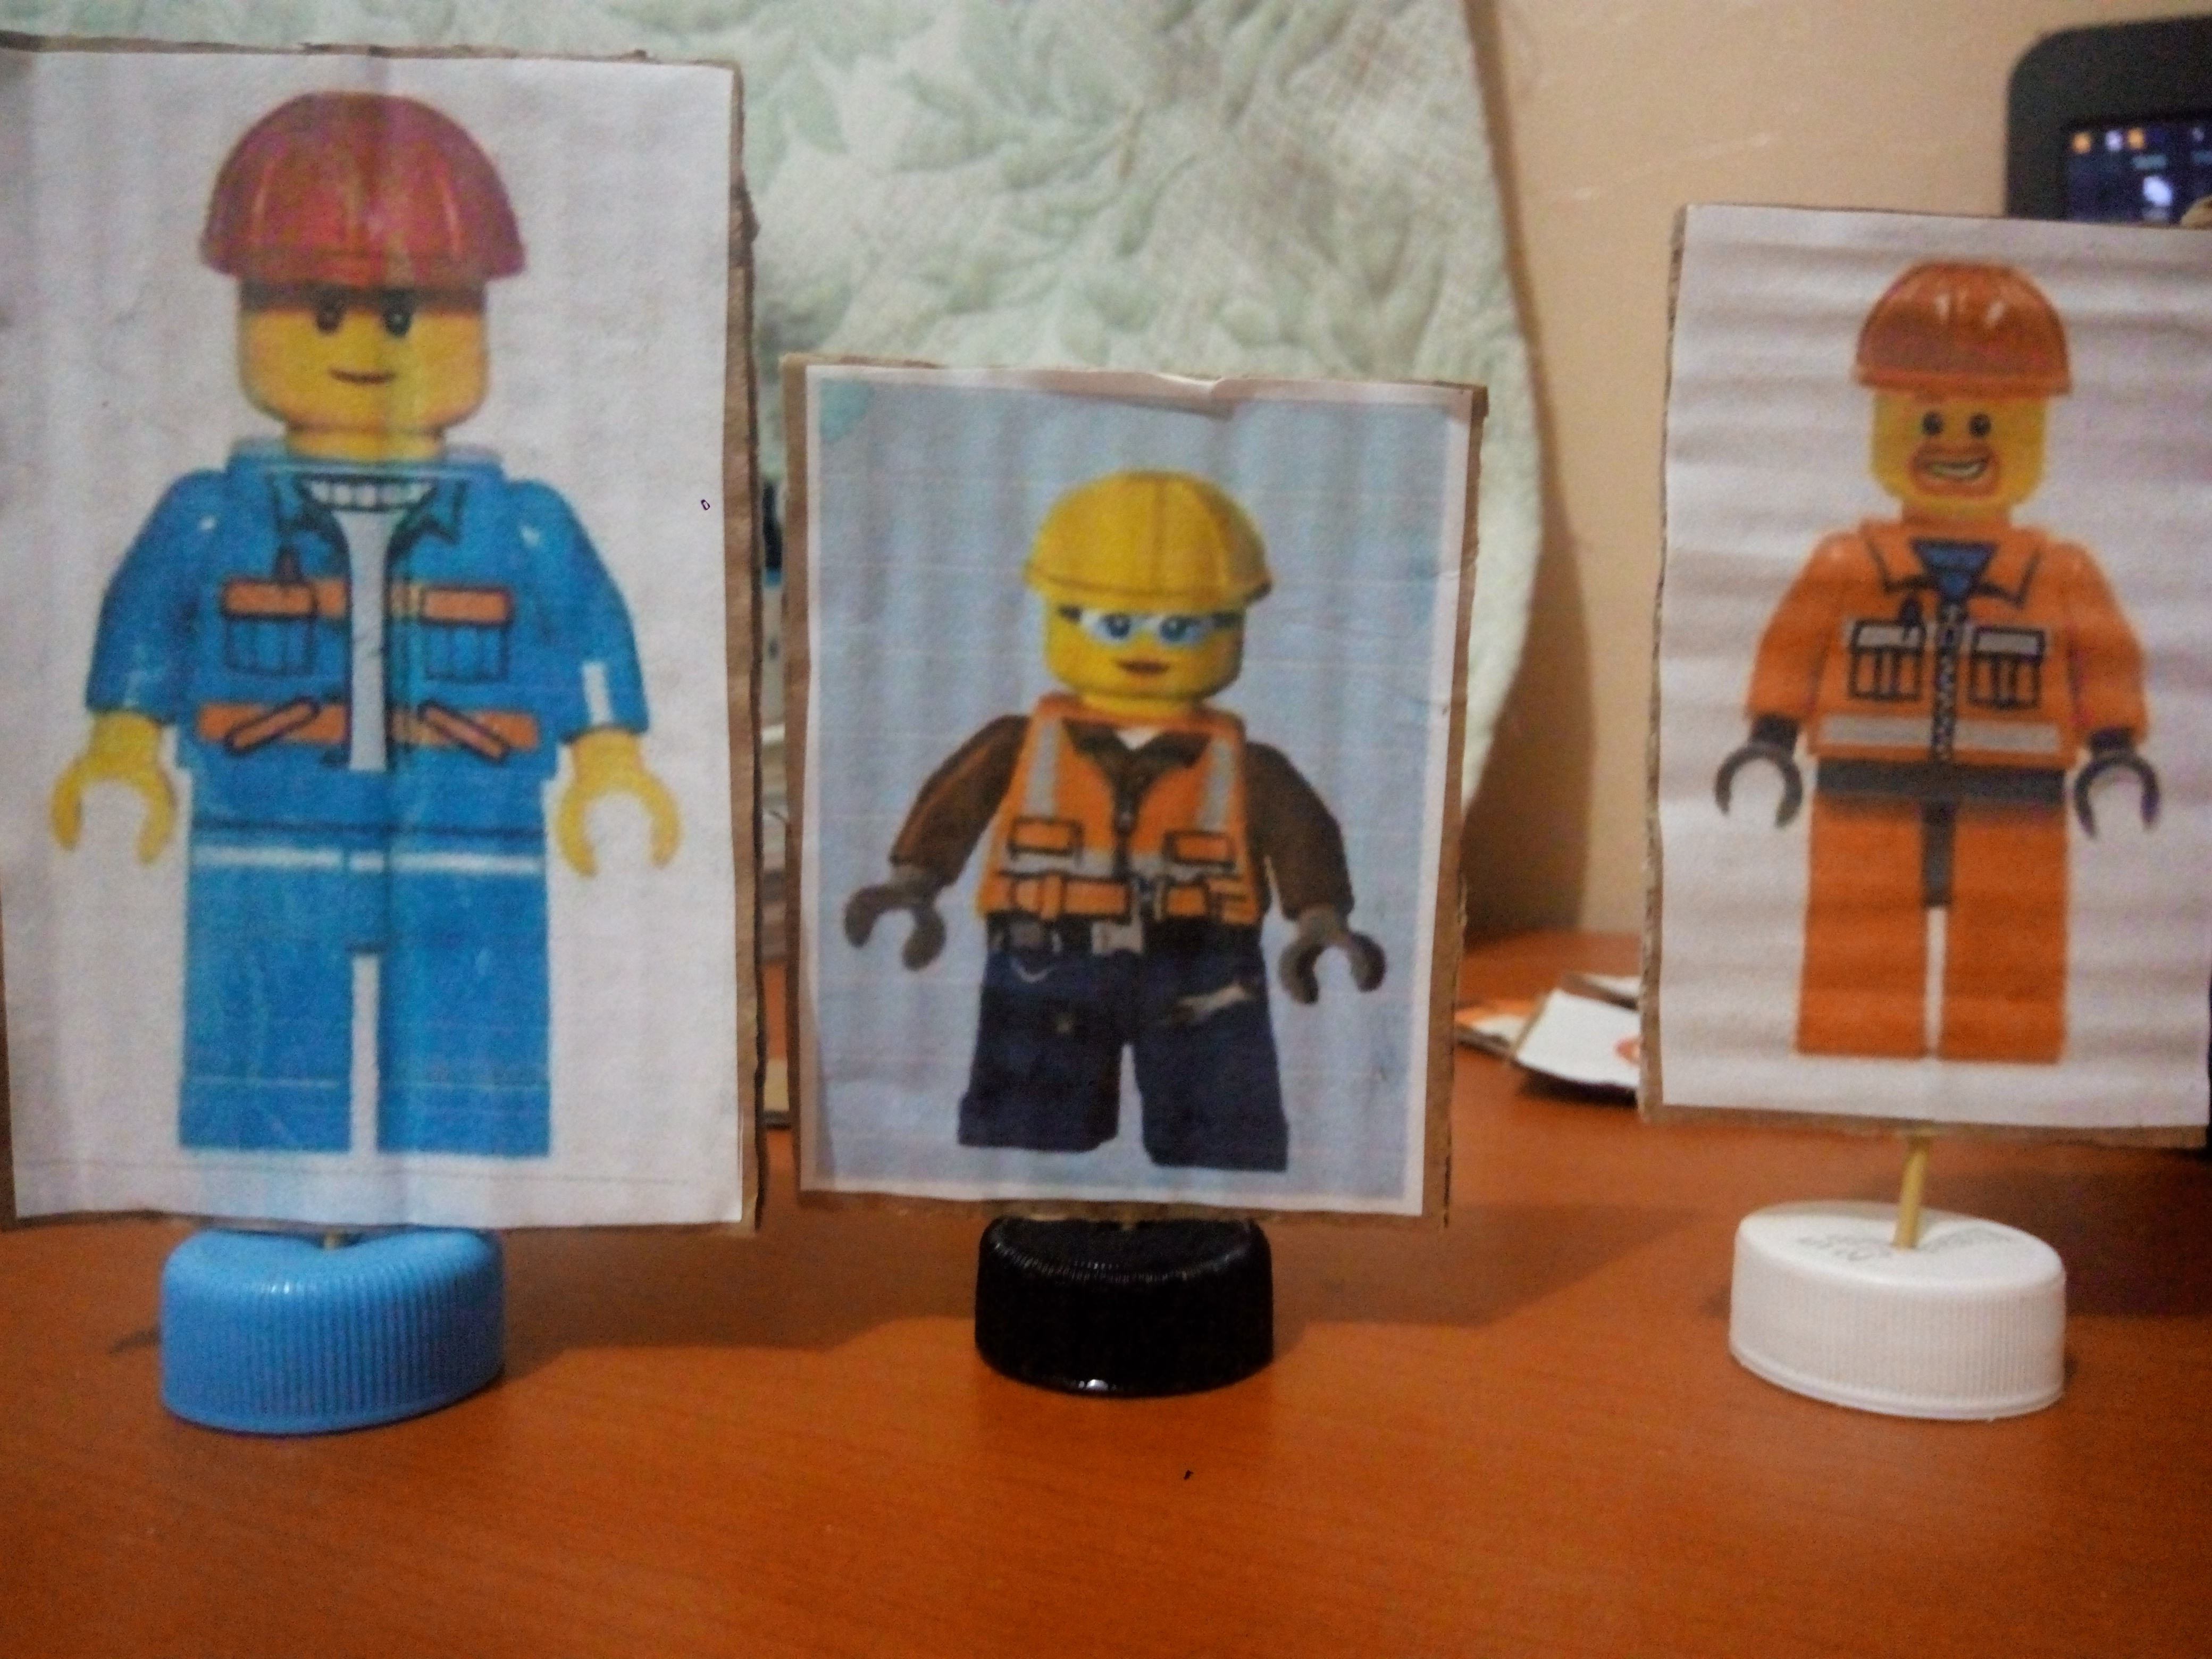pedestrian: (30, 75, 689, 1171), (836, 419, 1406, 1194), (1715, 247, 2183, 1105)
